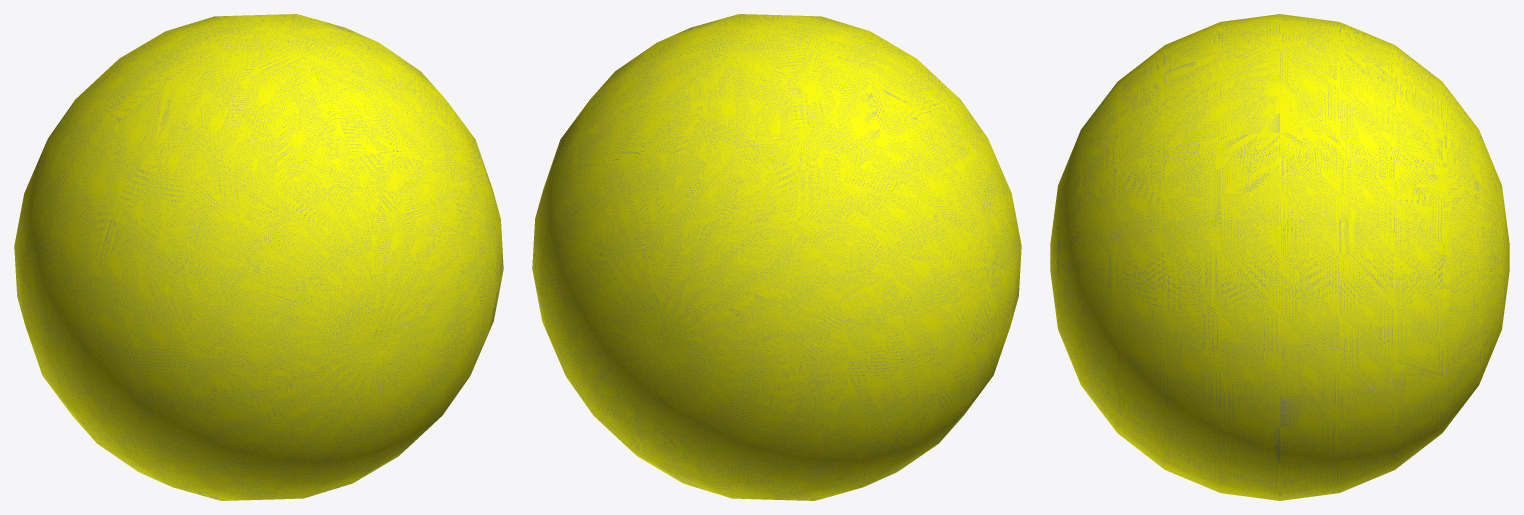
File: shallow.dae
The picture shows the model from 3 angles, left to right: view 1: azimuth 30°, elevation 25°; view 2: azimuth 150°, elevation 25°; view 3: azimuth 270°, elevation 25°; orthographic projection.
Parts seen in each view (by area): view 1: SketchUp; view 2: SketchUp; view 3: SketchUp.
Part boxes in pixels (x1=…): SketchUp: x1=14, y1=14, x2=503, y2=500; SketchUp: x1=532, y1=14, x2=1021, y2=500; SketchUp: x1=1050, y1=14, x2=1509, y2=500.
Size of the model in its own units: 202 by 192 by 202.
